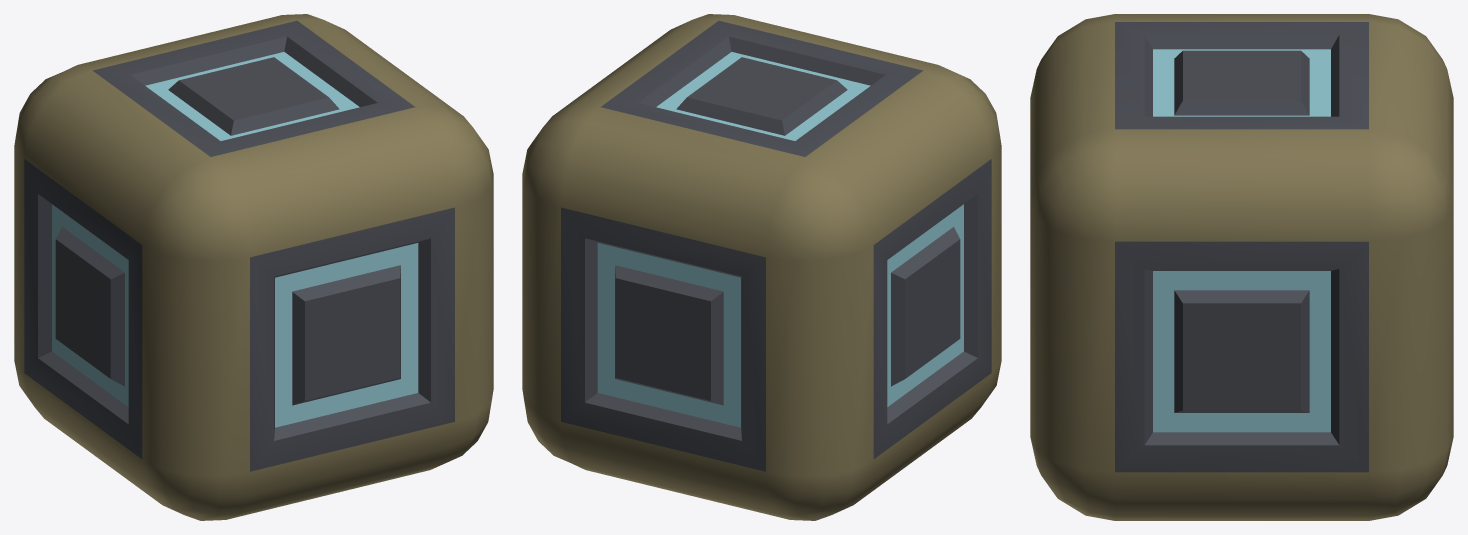
3 views of the same model, side by side, from view 1: azimuth 30°, elevation 25°; view 2: azimuth 150°, elevation 25°; view 3: azimuth 270°, elevation 25° (orthographic). The views are drawn at different scales.
Visible parts, largest first — view 1: platform; view 2: platform; view 3: platform.
Part boxes in pixels (box(x1,y1,x2,y2)): platform: box(14, 14, 493, 520); platform: box(522, 14, 1001, 520); platform: box(1030, 14, 1453, 520).
Bounding box in the file's own units: 100 × 100 × 100.
